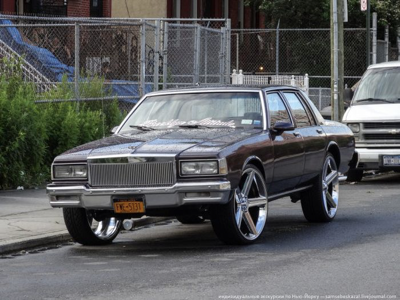licence: (110, 199, 147, 217)
